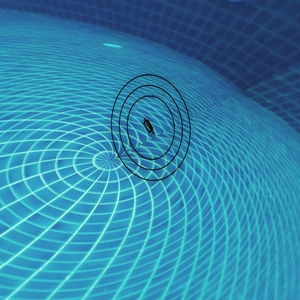circle: (100, 67, 204, 188)
submarine: (144, 121, 153, 131)
